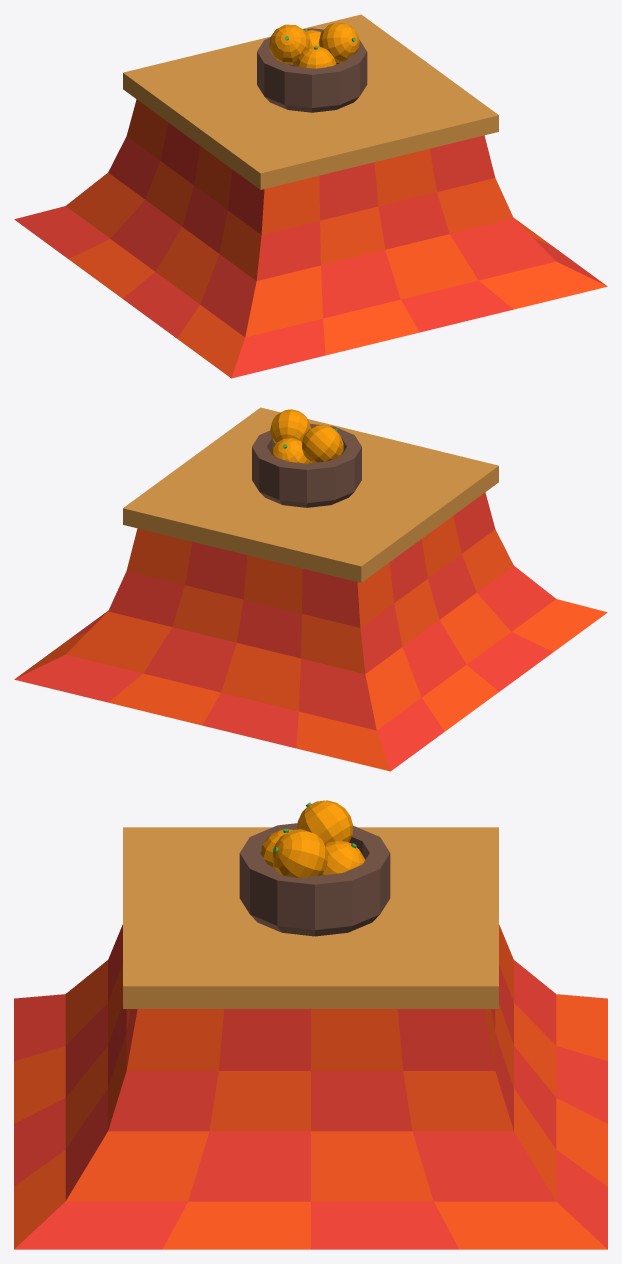
The model's file is kotatu-by-sugamo-fK7RqTjo7Ms.glb.
3 views of the same model, one above another, from view 1: azimuth 30°, elevation 25°; view 2: azimuth 150°, elevation 25°; view 3: azimuth 270°, elevation 25° (orthographic). The views are drawn at different scales.
Parts seen in each view (by area): view 1: group212276067, group1752753407, group1510118142, group2121416392, group1824869849, group1111908820; view 2: group212276067, group1752753407, group1510118142, group2121416392, group1824869849, group935075889; view 3: group212276067, group1752753407, group1510118142, group1824869849, group2121416392, group935075889.
Boxes of the visible parts, box(x1,y1,x2,y2) form: group212276067: box(14, 99, 607, 378); group1752753407: box(123, 14, 498, 189); group1510118142: box(257, 28, 367, 112); group2121416392: box(269, 24, 309, 64); group1824869849: box(318, 22, 359, 62); group1111908820: box(295, 46, 336, 68); group212276067: box(14, 492, 607, 771); group1752753407: box(123, 407, 498, 582); group1510118142: box(252, 424, 361, 507); group2121416392: box(302, 424, 342, 462); group1824869849: box(270, 409, 310, 443); group935075889: box(270, 437, 309, 463); group212276067: box(14, 924, 607, 1249); group1752753407: box(123, 827, 498, 1008); group1510118142: box(239, 823, 390, 936); group1824869849: box(272, 829, 327, 878); group2121416392: box(297, 800, 353, 844); group935075889: box(321, 840, 365, 875).
Size of the model in its own units: 2.1 by 1.21 by 2.1.
